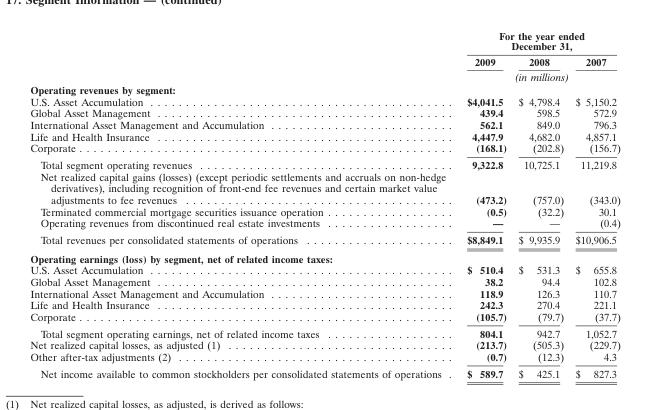table: (29, 29, 619, 379)
table column: (29, 29, 458, 379), (512, 29, 568, 379), (458, 29, 512, 379), (568, 29, 619, 379)
table column header: (29, 29, 619, 83)
table projected row header: (29, 248, 619, 263), (29, 83, 619, 95)
table row: (29, 170, 619, 205), (29, 29, 619, 53), (29, 231, 619, 248), (29, 53, 619, 68), (29, 68, 619, 83), (29, 141, 619, 156), (29, 216, 619, 231), (29, 248, 619, 263), (29, 364, 619, 379), (29, 156, 619, 170), (29, 310, 619, 324), (29, 324, 619, 338), (29, 350, 619, 364), (29, 83, 619, 95), (29, 95, 619, 107), (29, 118, 619, 130), (29, 263, 619, 275), (29, 275, 619, 287), (29, 298, 619, 310), (29, 338, 619, 350), (29, 107, 619, 118), (29, 130, 619, 141), (29, 205, 619, 216), (29, 287, 619, 298)
table spanning cell: (458, 29, 619, 53), (458, 68, 619, 83)
